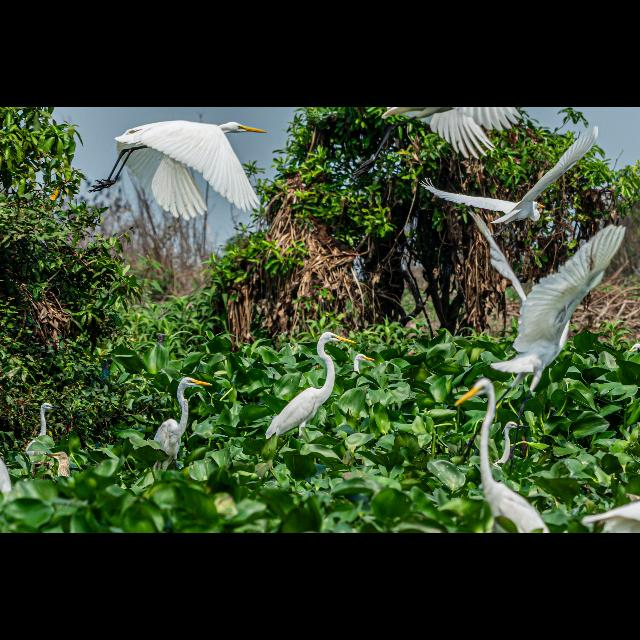egret: (416, 129, 592, 223), (96, 118, 264, 214), (450, 378, 540, 532), (272, 330, 351, 442), (156, 375, 212, 461)
